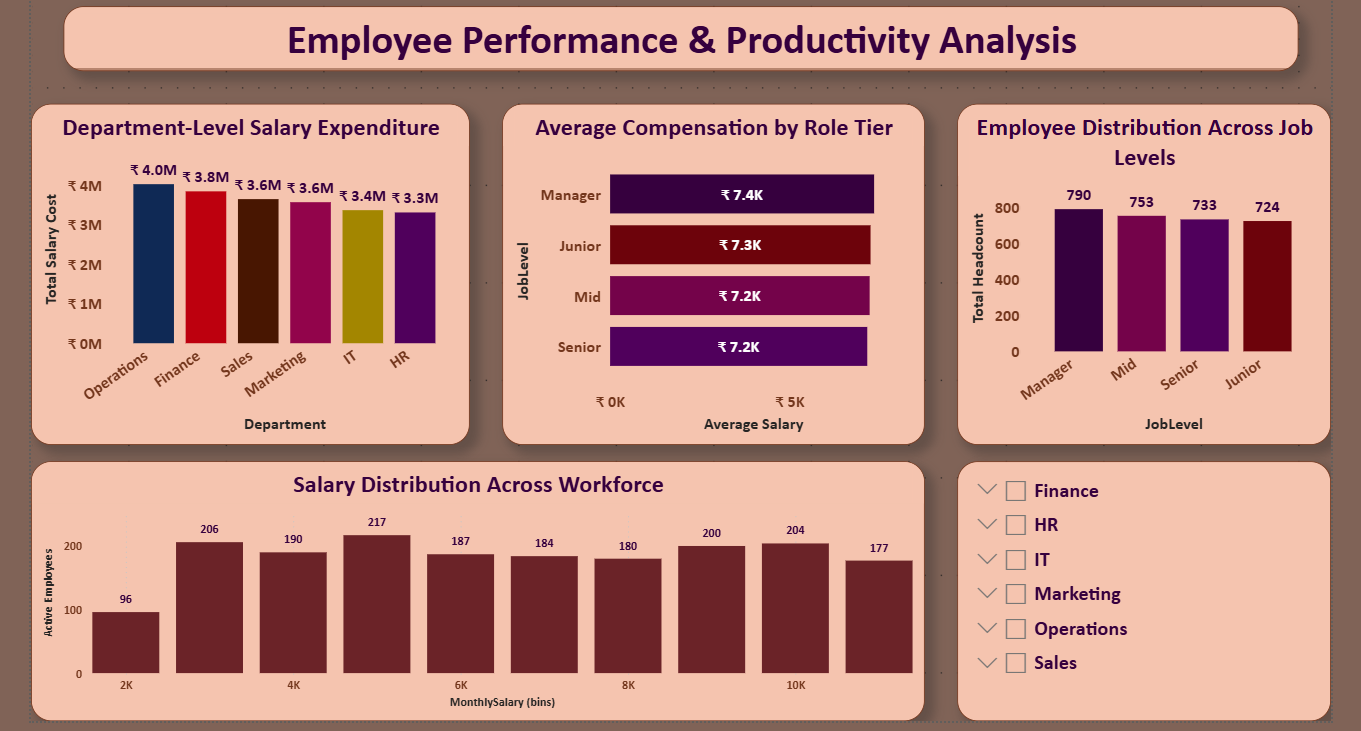

The page's visual inventory and layout, read from the dashboard file:
{"tool":"powerbi","page":{"name":"Workforce Cost & Planning","canvas":[1280,720],"ordinal":3},"visuals":[{"type":"textbox","title":"Employee Performance & Productivity Analysis","box":[32,16,1216,64],"z":0},{"type":"columnChart","title":"Department-Level Salary Expenditure","fields":{"Category":["HR Data.Department"],"Y":["HR Data.Total Salary Cost"]},"box":[0,112,432,336],"z":1000},{"type":"barChart","title":"Average Compensation by Role Tier","fields":{"Category":["HR Data.JobLevel"],"Series":["HR Data.JobLevel"],"Y":["HR Data.Average Salary"]},"box":[464,112,416,336],"z":2000},{"type":"clusteredColumnChart","title":"Employee Distribution Across Job Levels","fields":{"Category":["HR Data.JobLevel"],"Y":["HR Data.Total Headcount"]},"box":[912,112,368,336],"z":3000},{"type":"clusteredColumnChart","title":"Salary Distribution Across Workforce","fields":{"Y":["HR Data.Active Employees"],"Category":["HR Data.MonthlySalary (bins)"]},"box":[0,464,880,256],"z":4000},{"type":"slicer","fields":{"Values":["HR Data.Department","HR Data.Location","HR Data.JobLevel"]},"box":[912,464,368,256],"z":5000}]}

Visuals, with their boxes on the page's 1280x720 design canvas (x1, y1, x2, y2). These are canvas units, not pixel positions in the 1361x731 screenshot, which may show the page scaled, cropped or inside an application window:
"Employee Performance & Productivity Analysis" textbox: 32:16:1248:80
"Department-Level Salary Expenditure" columnChart: 0:112:432:448
"Average Compensation by Role Tier" barChart: 464:112:880:448
"Employee Distribution Across Job Levels" clusteredColumnChart: 912:112:1280:448
"Salary Distribution Across Workforce" clusteredColumnChart: 0:464:880:720
slicer - HR Data.Department x HR Data.Location: 912:464:1280:720
